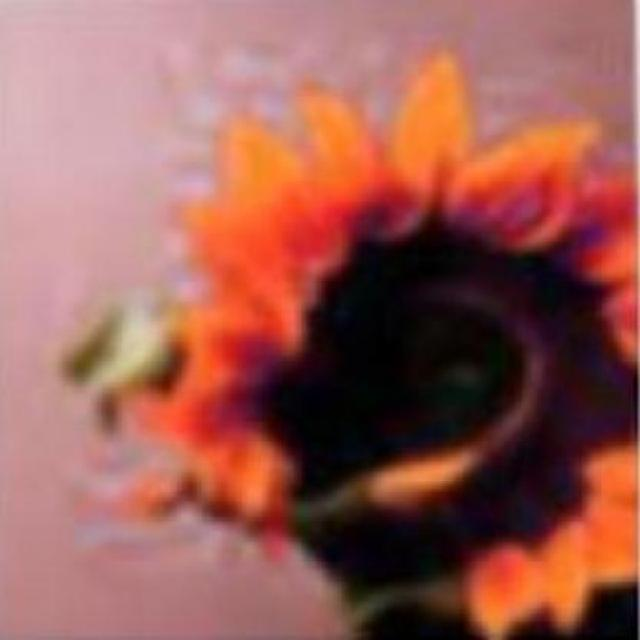sunflower: (112, 64, 640, 636)
